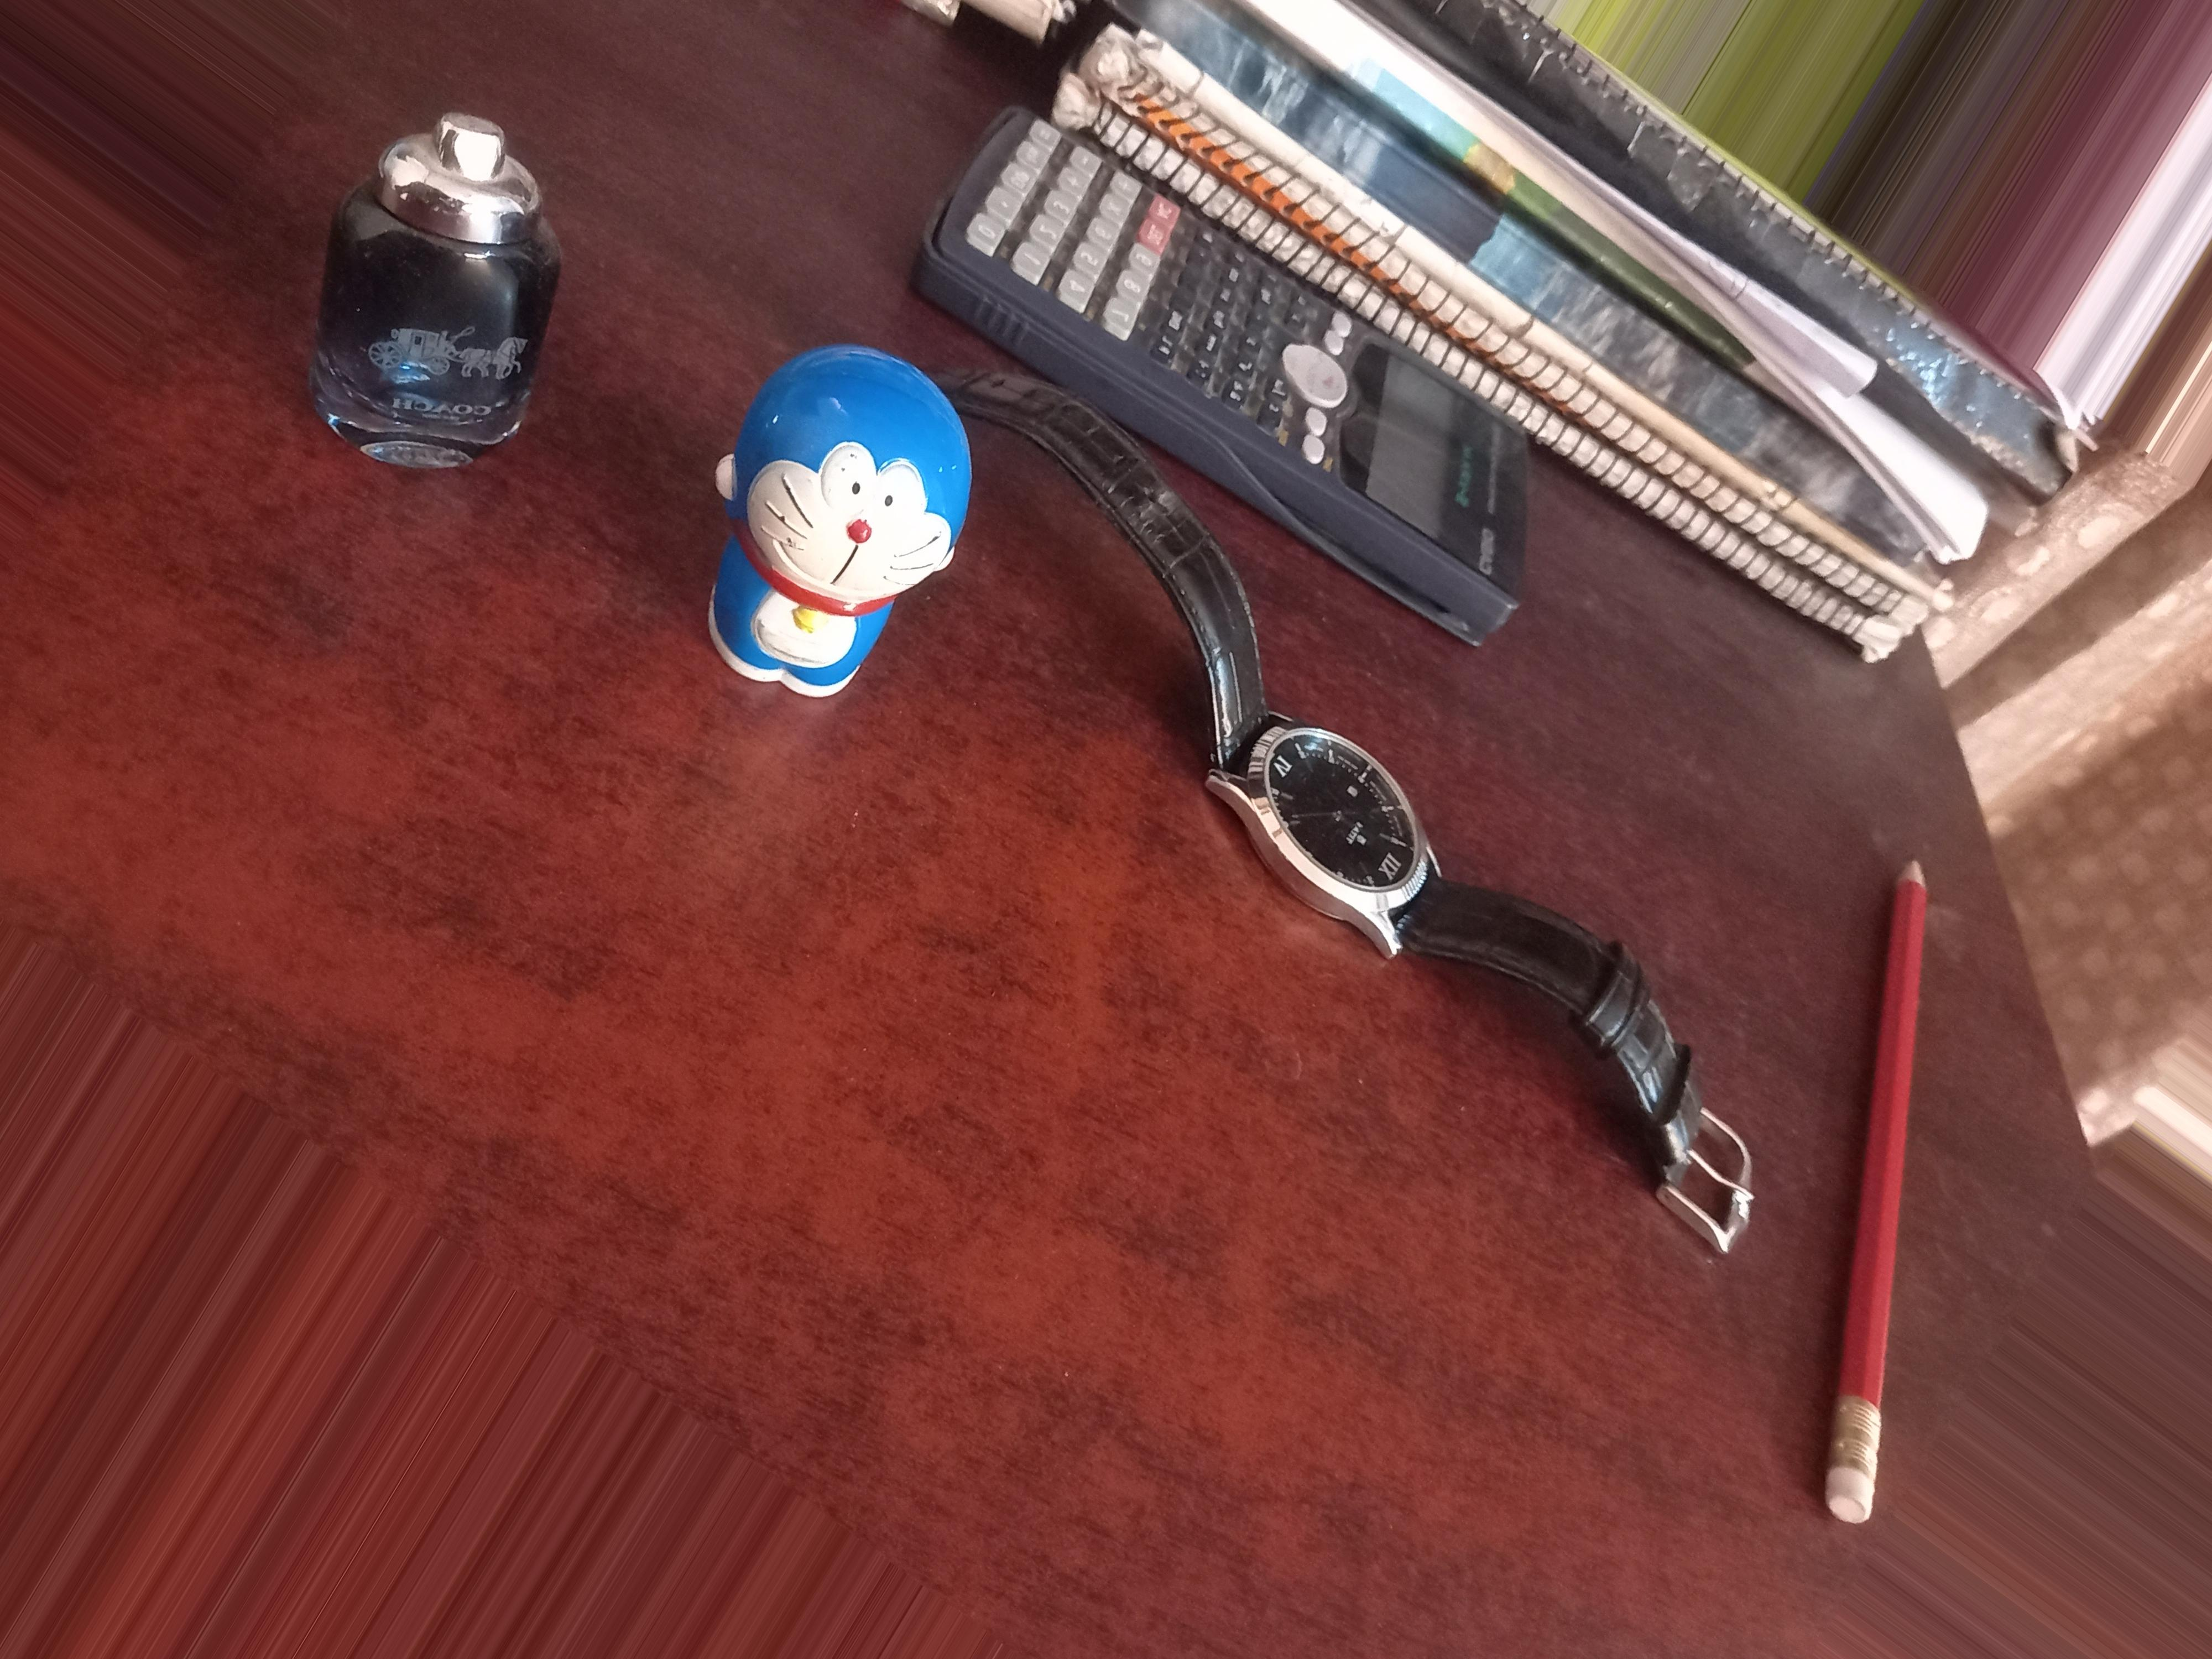calculator: (1153, 291, 1376, 458)
doraemon: (672, 434, 968, 650)
pencil: (1843, 816, 1956, 1546)
perfume: (315, 160, 570, 418)
watch: (1238, 714, 1468, 892)
